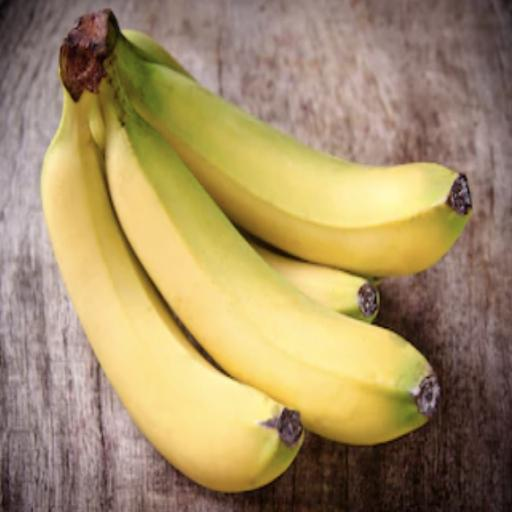banana: (69, 10, 439, 444), (42, 90, 303, 492), (120, 60, 471, 276), (245, 234, 379, 322), (248, 237, 379, 322), (249, 238, 379, 322), (122, 30, 193, 79)
